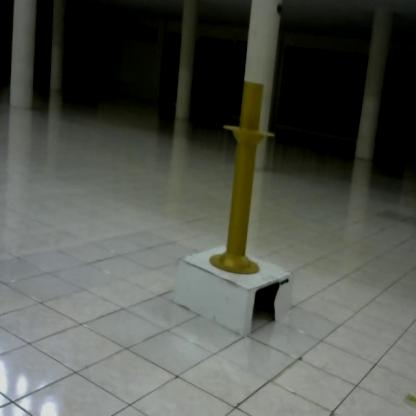pole: (209, 80, 277, 282)
